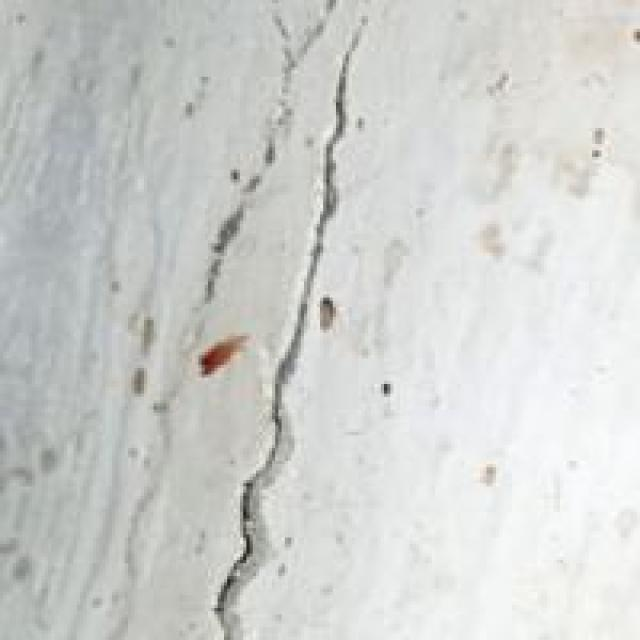crack: (167, 0, 390, 637)
